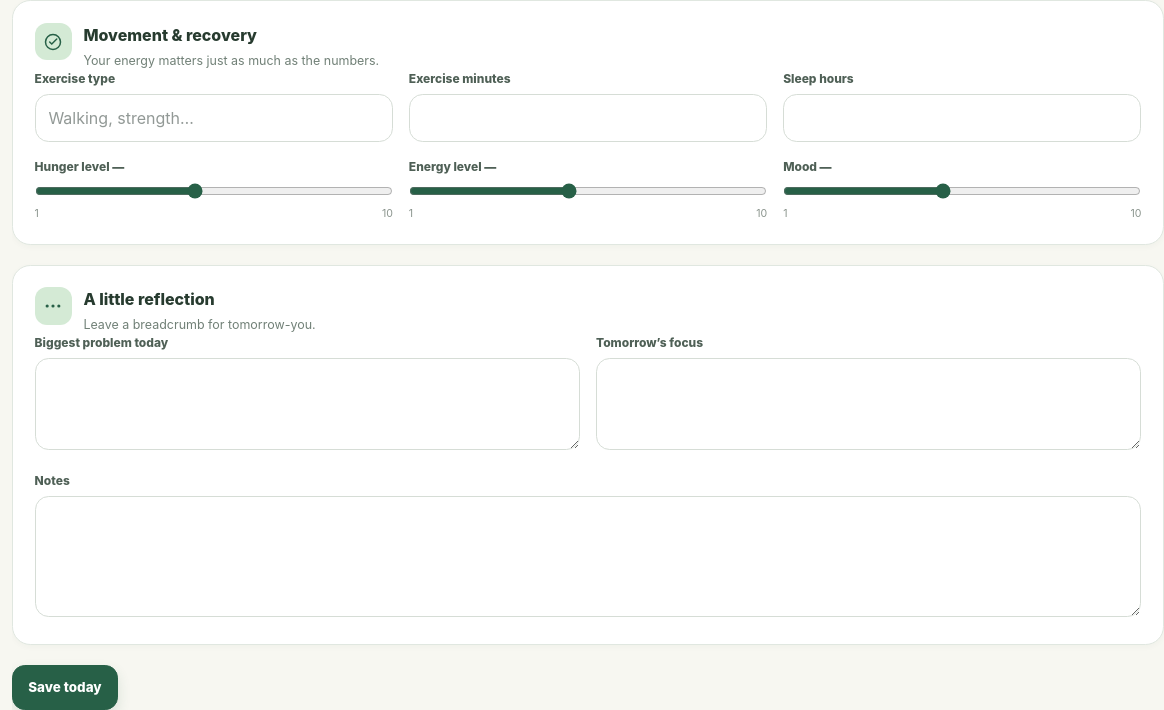
Test case: CheckIn › shows an inline error when saving fails
(page scrolled)
Click the button "Save today". click: (65,687)
box: [12,665,118,709]
(page scrolled)
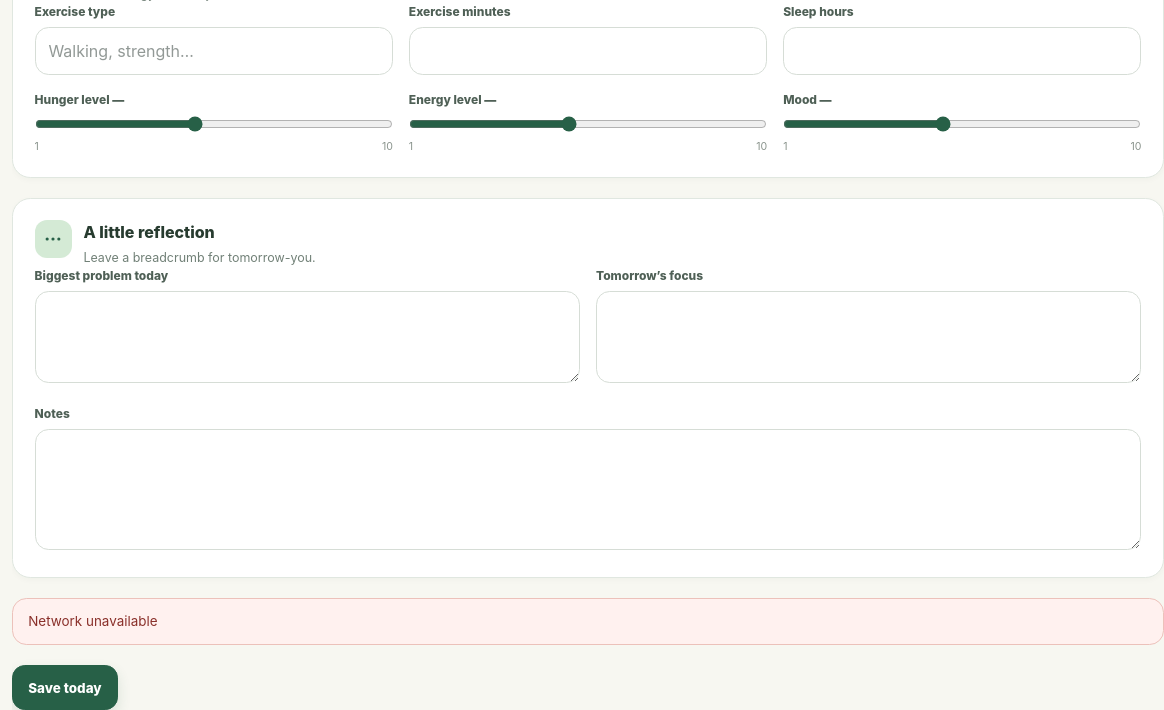
Check: the message reads "Network unavailable", box [28,613,158,629]
